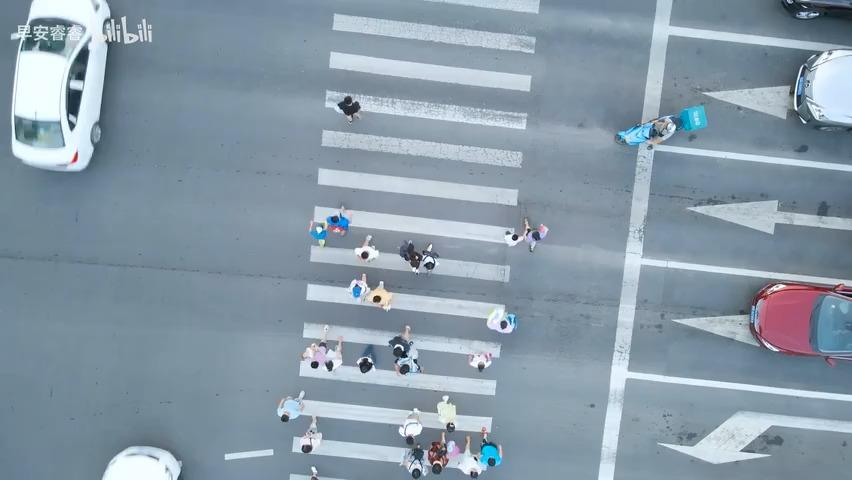Civilian: (388, 324, 423, 376), (452, 437, 486, 480), (294, 335, 327, 375), (476, 436, 512, 469), (399, 442, 427, 479), (646, 115, 676, 146), (276, 390, 305, 422), (412, 242, 439, 276), (522, 217, 548, 252), (427, 431, 448, 474), (398, 407, 423, 443), (486, 307, 517, 334), (398, 239, 421, 274), (326, 205, 351, 236), (504, 217, 529, 247), (436, 395, 456, 432), (336, 95, 361, 124), (324, 335, 343, 373), (354, 234, 379, 262), (347, 272, 370, 302), (299, 415, 317, 452), (356, 344, 376, 373), (308, 219, 328, 247), (467, 351, 492, 372)
